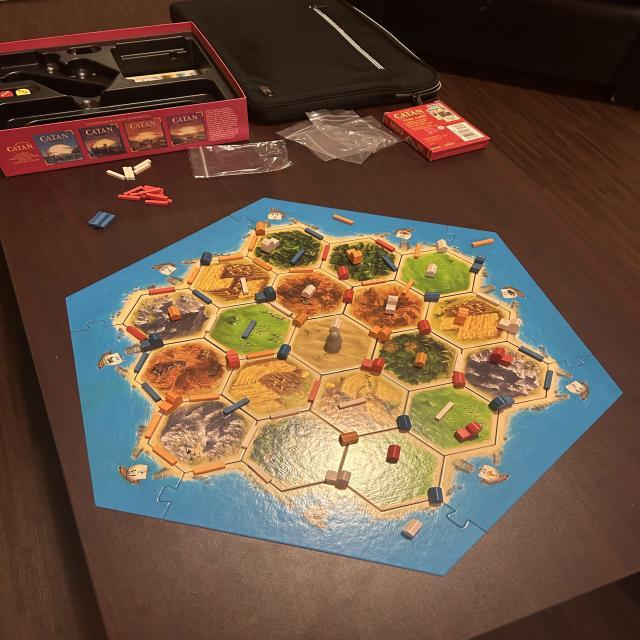blue-city: (487, 391, 515, 413), (254, 286, 278, 306), (140, 333, 164, 351), (469, 256, 487, 274)
blue-road: (223, 397, 250, 415), (139, 382, 162, 402), (518, 346, 544, 362), (380, 256, 400, 273), (192, 290, 214, 304), (136, 352, 150, 373), (242, 320, 258, 338), (88, 211, 105, 227), (304, 228, 324, 241), (92, 212, 110, 226), (100, 214, 116, 229), (292, 249, 307, 265), (544, 370, 554, 390)
blue-settlement: (276, 344, 294, 361), (394, 414, 412, 431), (427, 486, 444, 504), (200, 252, 213, 266), (426, 292, 441, 302)
orange-city: (368, 325, 392, 341), (344, 248, 364, 266), (454, 306, 472, 324)
orange-road: (152, 444, 178, 466), (143, 416, 162, 440), (194, 462, 226, 476), (188, 393, 220, 403), (471, 236, 495, 248), (246, 350, 274, 360), (361, 276, 388, 286), (253, 258, 272, 272), (333, 214, 355, 226), (402, 278, 416, 296), (219, 253, 244, 263), (187, 268, 201, 284), (248, 236, 258, 252), (289, 267, 314, 273), (414, 242, 422, 260)
orange-settlement: (338, 430, 359, 446), (292, 311, 310, 326), (254, 222, 268, 237), (413, 352, 427, 367), (168, 306, 182, 320)
red-city: (453, 422, 483, 441), (490, 347, 514, 366), (360, 358, 386, 373), (224, 349, 240, 369)
red-road: (124, 324, 148, 340), (150, 285, 176, 296), (376, 237, 395, 252), (308, 379, 320, 402), (124, 184, 144, 196), (145, 199, 169, 207), (146, 192, 169, 200), (137, 188, 162, 195), (143, 184, 164, 192), (322, 246, 332, 260), (120, 193, 140, 200)
red-settlement: (417, 319, 433, 337), (386, 444, 401, 462), (449, 372, 467, 387), (342, 288, 355, 304), (336, 266, 350, 280)
white-city: (324, 466, 352, 487), (498, 316, 524, 334), (382, 294, 400, 314), (261, 238, 281, 254)
white-road: (266, 406, 304, 422), (249, 462, 275, 484), (434, 400, 454, 420), (270, 302, 292, 318), (338, 398, 366, 409), (245, 425, 259, 447), (452, 354, 468, 372), (204, 316, 220, 332), (238, 277, 250, 297), (133, 158, 152, 170), (133, 163, 151, 174), (106, 170, 125, 180), (127, 166, 137, 180), (122, 167, 130, 180)
white-settlement: (402, 520, 422, 539), (302, 284, 318, 300), (328, 316, 344, 332), (434, 239, 450, 254), (424, 265, 438, 279)
